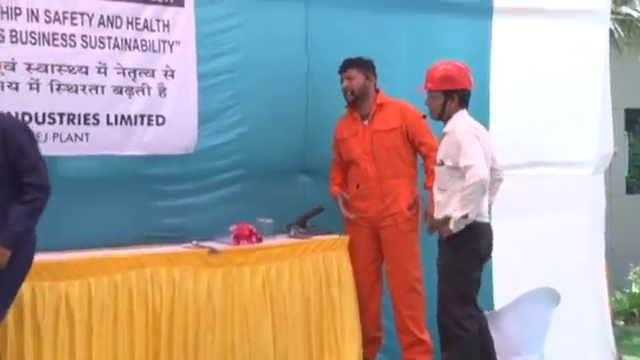helmet: (416, 59, 479, 93)
helmet_off: (337, 57, 381, 107)
helmet_on: (413, 55, 479, 125)
person: (330, 57, 440, 360), (412, 55, 505, 360), (1, 112, 53, 321)
